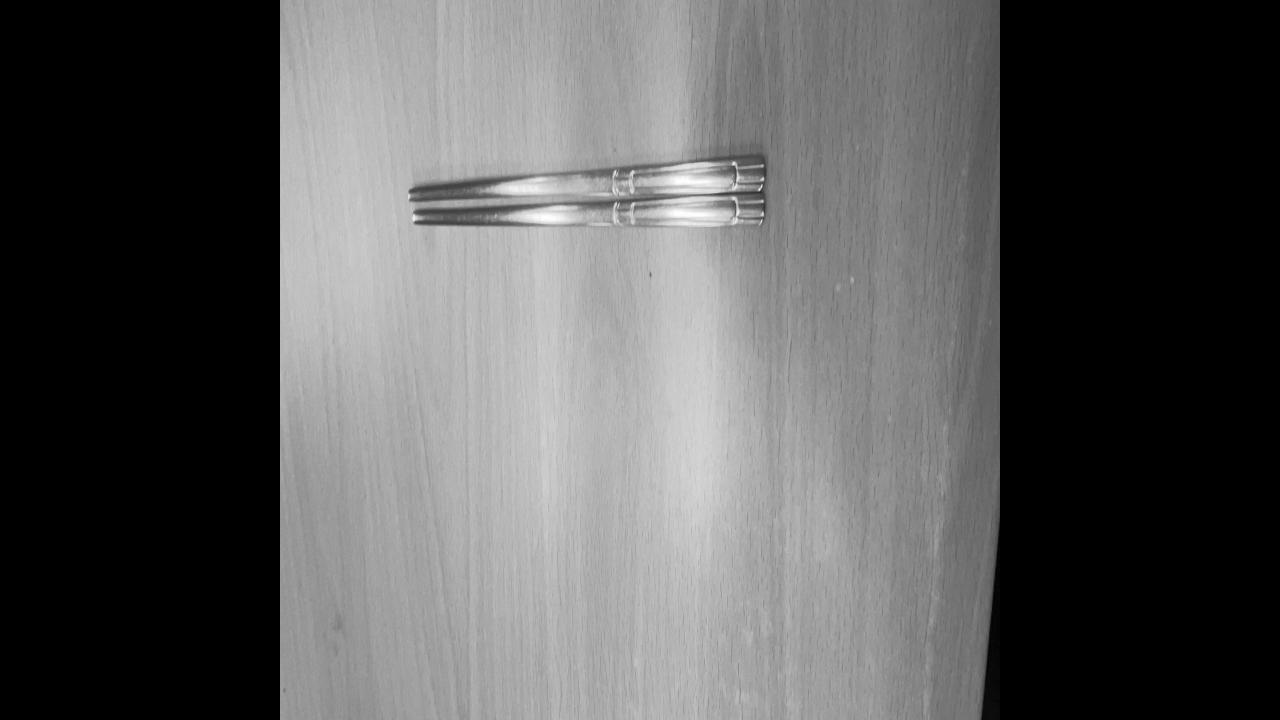chopstick: (410, 159, 766, 225)
